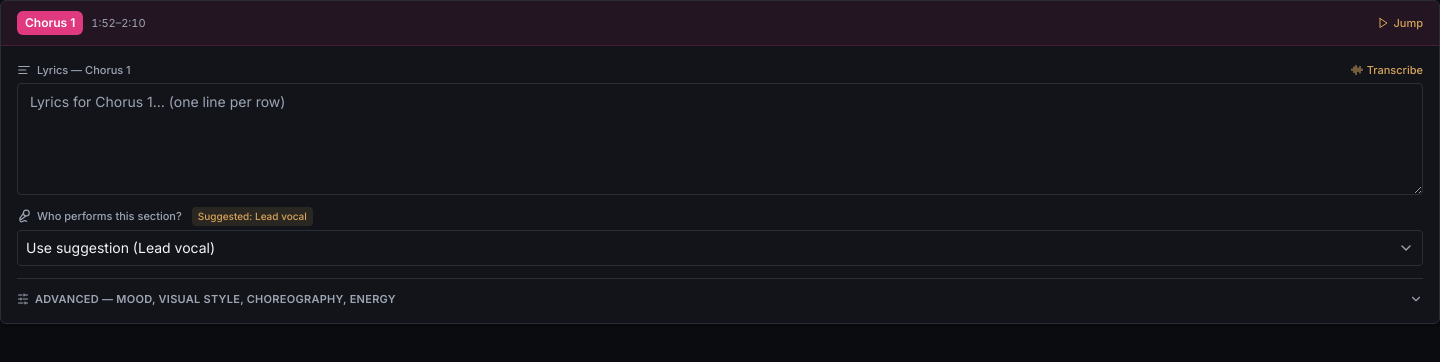
Test: SectionEditor transcription › surfaces a provider failure instead of failing silently
Click the button "Transcribe". click: coordinates (1387, 70)
box: [1351, 62, 1423, 78]
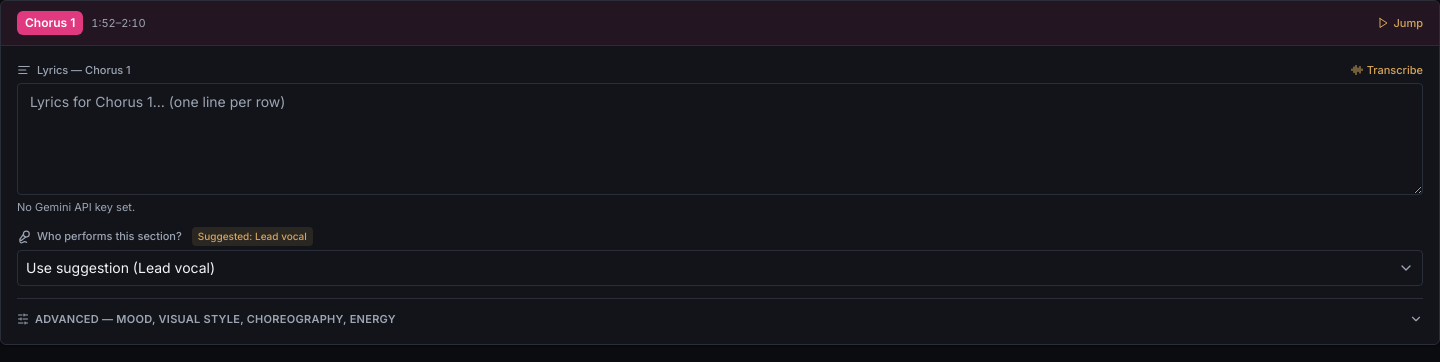
Now the text "No Gemini API key set." is shown, box [17, 200, 135, 214]
